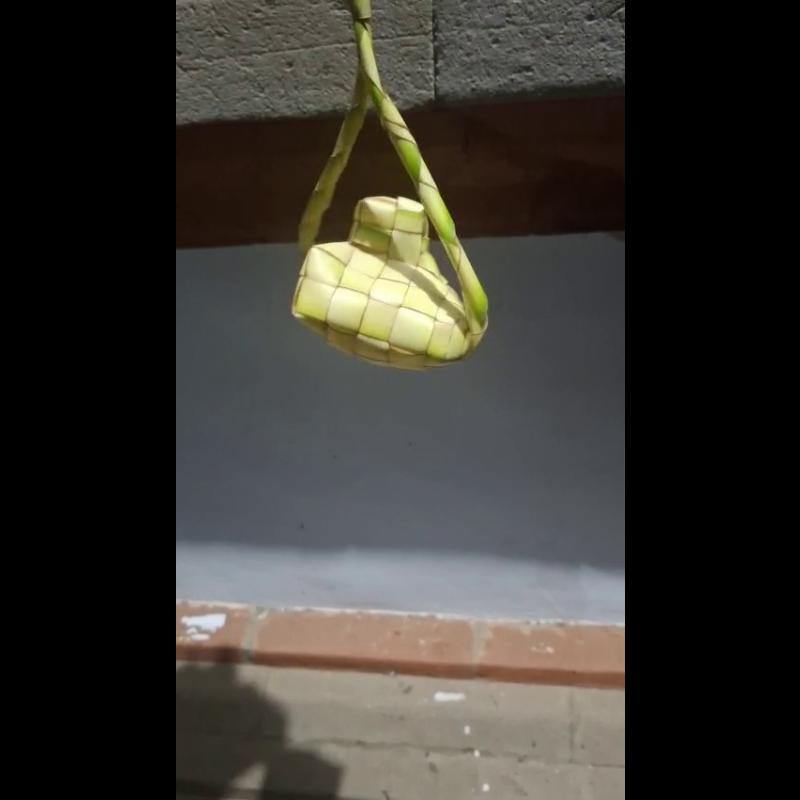Tipat Gong: (288, 4, 494, 374)
